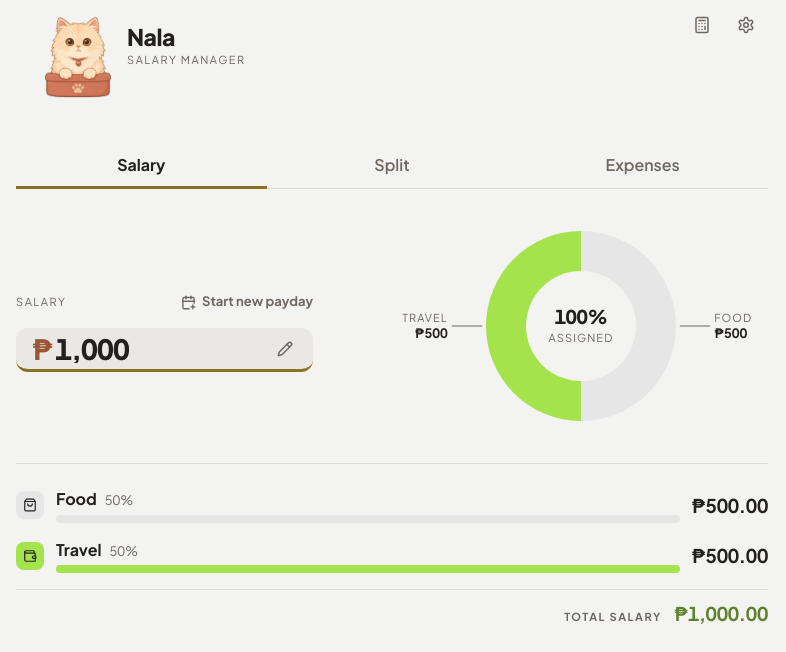
Test: expense tracking in App › swaps the top summary to the filtered category's own share
The image size is (786, 652).
Click the tab "Expenses" at point(643, 167), box x1=517 y1=145 x2=768 y2=189
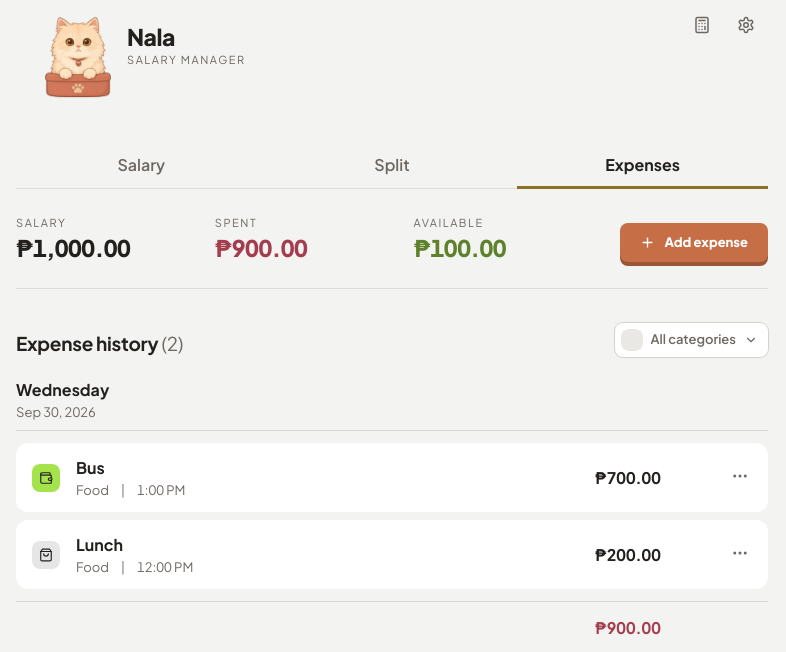
Check: the text "Lunch" is shown, box x1=76 y1=534 x2=123 y2=555
Check: the text "₱100.00" is shown, box x1=414 y1=233 x2=506 y2=262
Click the button with aria-label "filter by category" at point(691, 340), box x1=614 y1=323 x2=768 y2=357
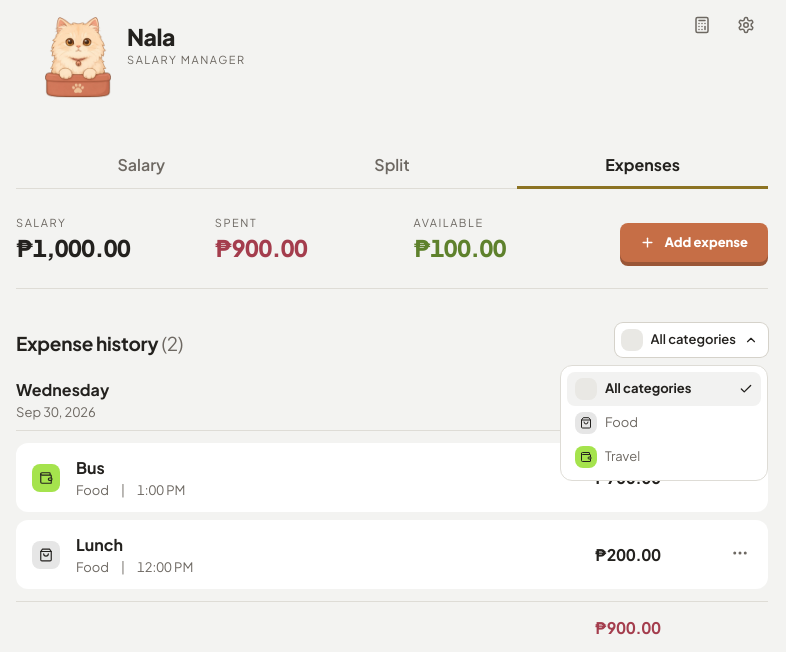
Click the option "Travel" at point(608, 457), box x1=575 y1=446 x2=640 y2=468
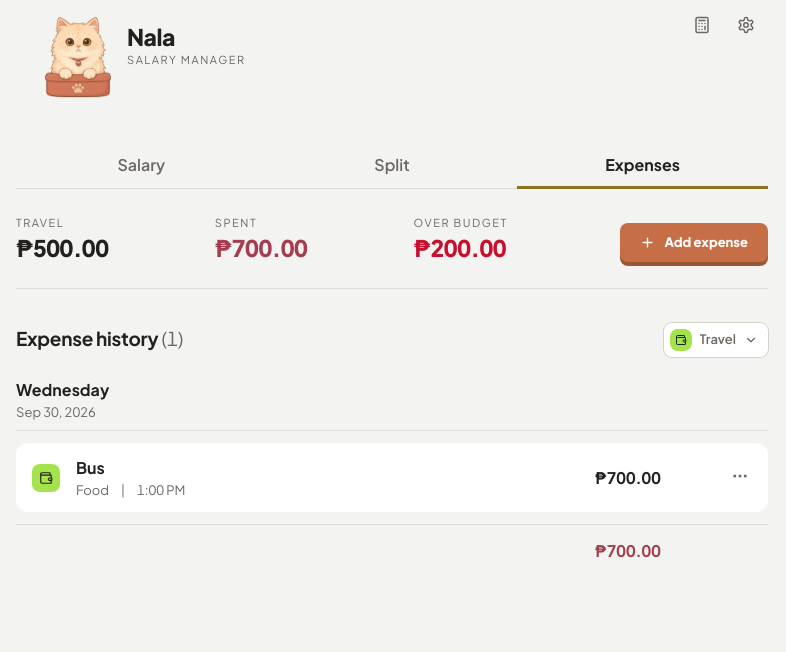
Check: the text "Lunch" is gone
Check: the text "₱500.00" is shown, box x1=16 y1=233 x2=109 y2=262
Check: the text "₱700.00" below "Spent" is shown, box x1=215 y1=233 x2=307 y2=262
Click the button with aria-label "filter by category" at point(716, 340), box x1=664 y1=323 x2=768 y2=357
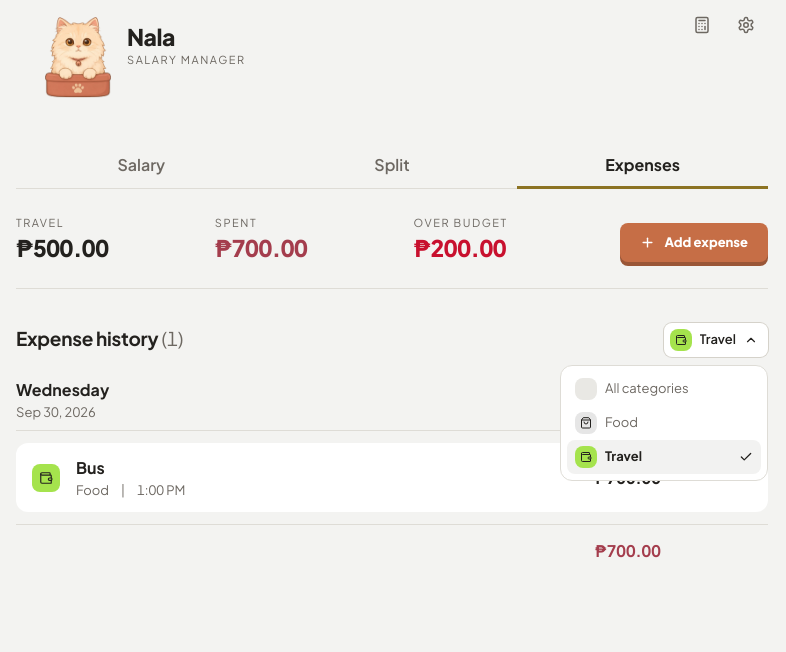
Click the option "Food" at point(606, 423), box x1=575 y1=412 x2=638 y2=434
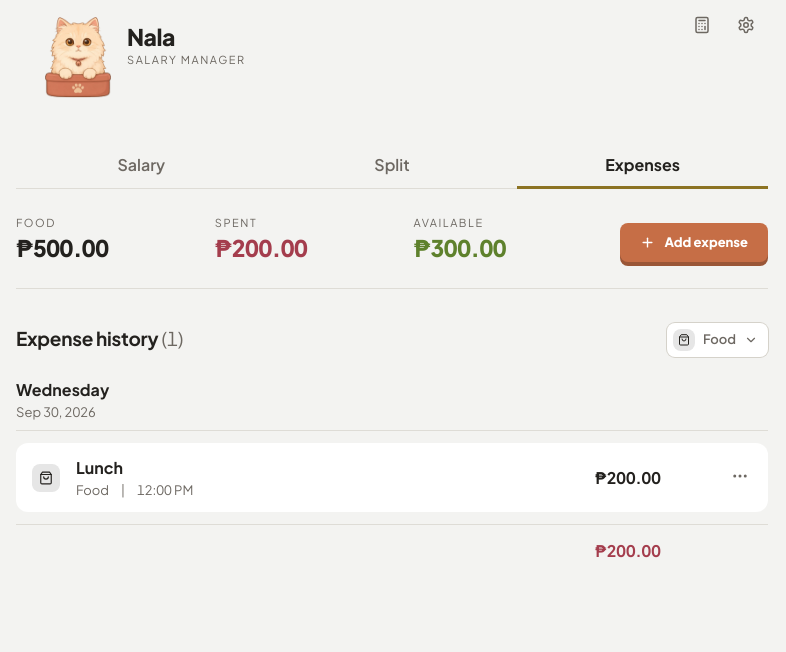
Check: the text "₱300.00" is shown, box x1=414 y1=233 x2=506 y2=262
